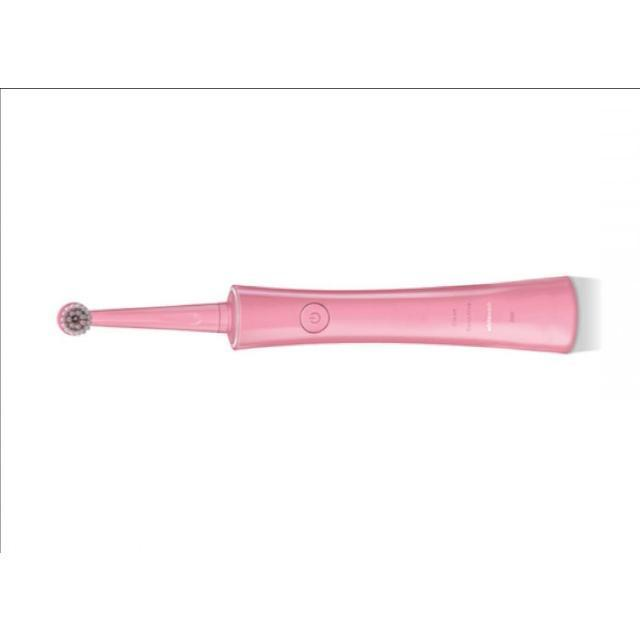toothbrush: (28, 250, 640, 410)
